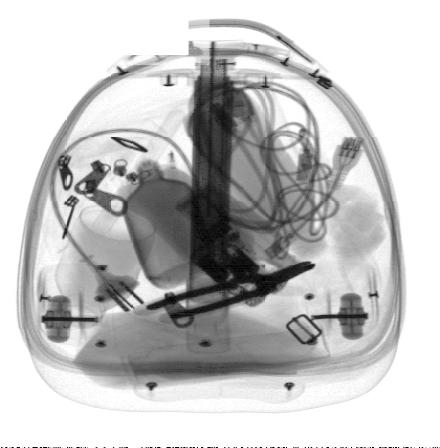Pliers: (146, 259, 314, 319)
